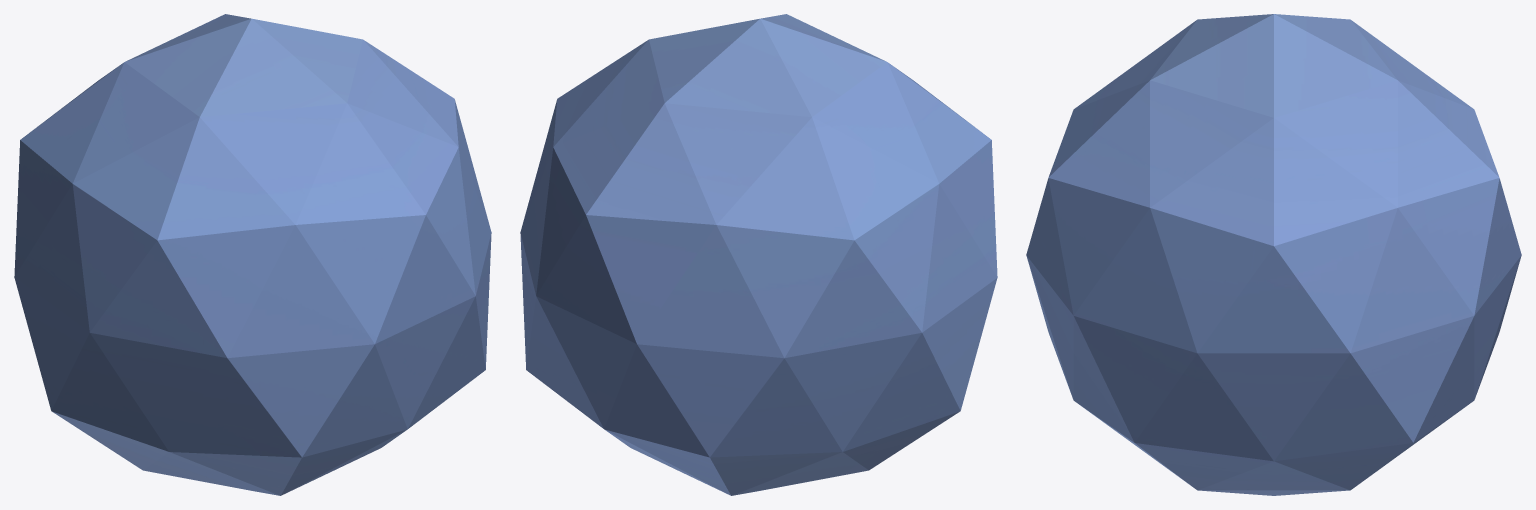
The model's file is uranus.fbx.
3 renders of one model, left to right at view 1: azimuth 30°, elevation 25°; view 2: azimuth 150°, elevation 25°; view 3: azimuth 270°, elevation 25°, orthographic.
Parts seen in each view (by area): view 1: pSolid1; view 2: pSolid1; view 3: pSolid1.
Boxes of the visible parts, bbox=[...] form: pSolid1: bbox=[14, 14, 491, 495]; pSolid1: bbox=[520, 14, 997, 495]; pSolid1: bbox=[1026, 14, 1521, 495].
Size of the model in its own units: 16.52 by 18.53 by 17.3.
